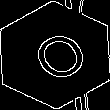O_SE: (19, 22, 91, 88)
